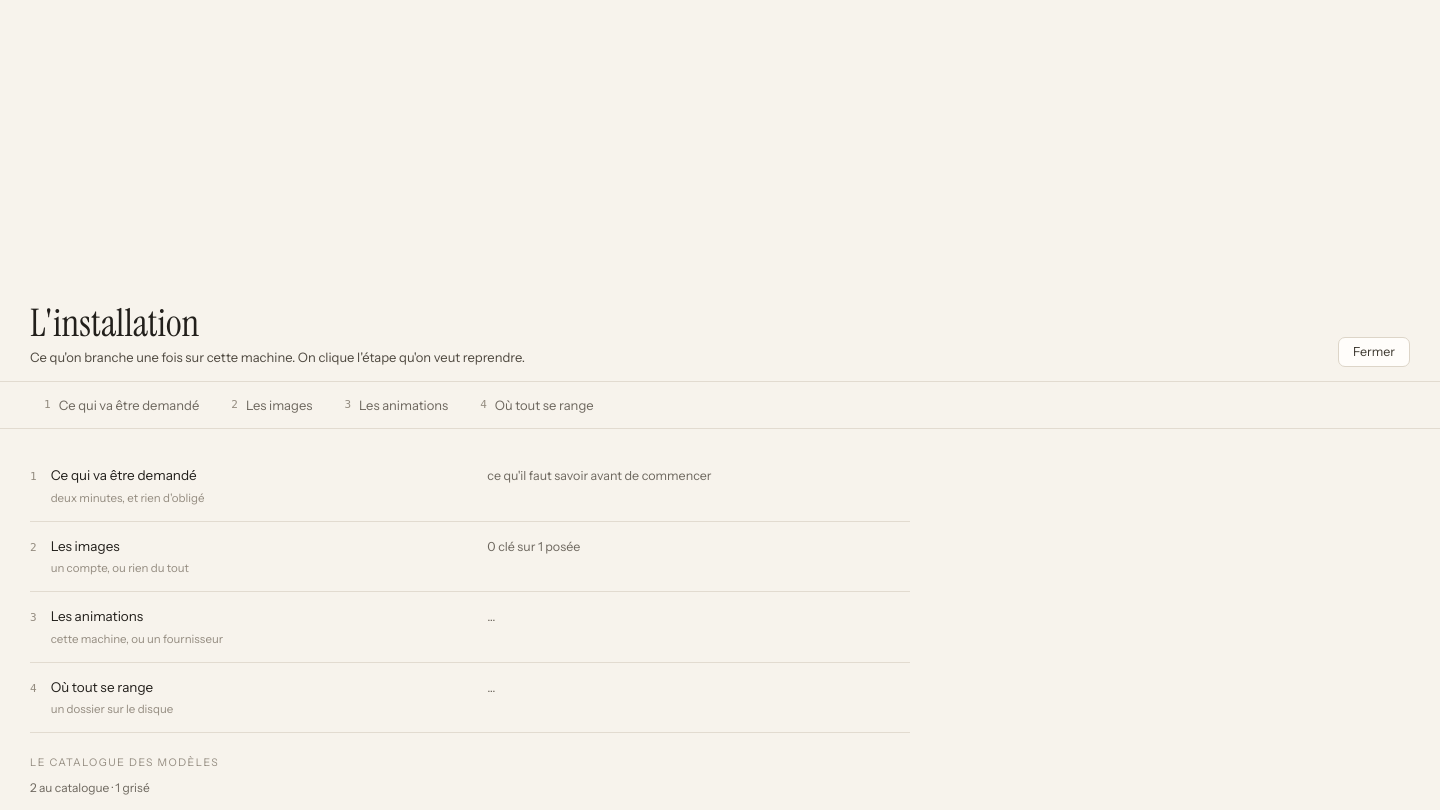
Test: l'adresse de ComfyUI › un moteur éteint le dit, et ne propose rien à descendre
The width and height of the screenshot is (1440, 810).
(page scrolled)
Click the button "3 Les animations".
click(396, 405)  # box [330,390,462,420]
(page scrolled)
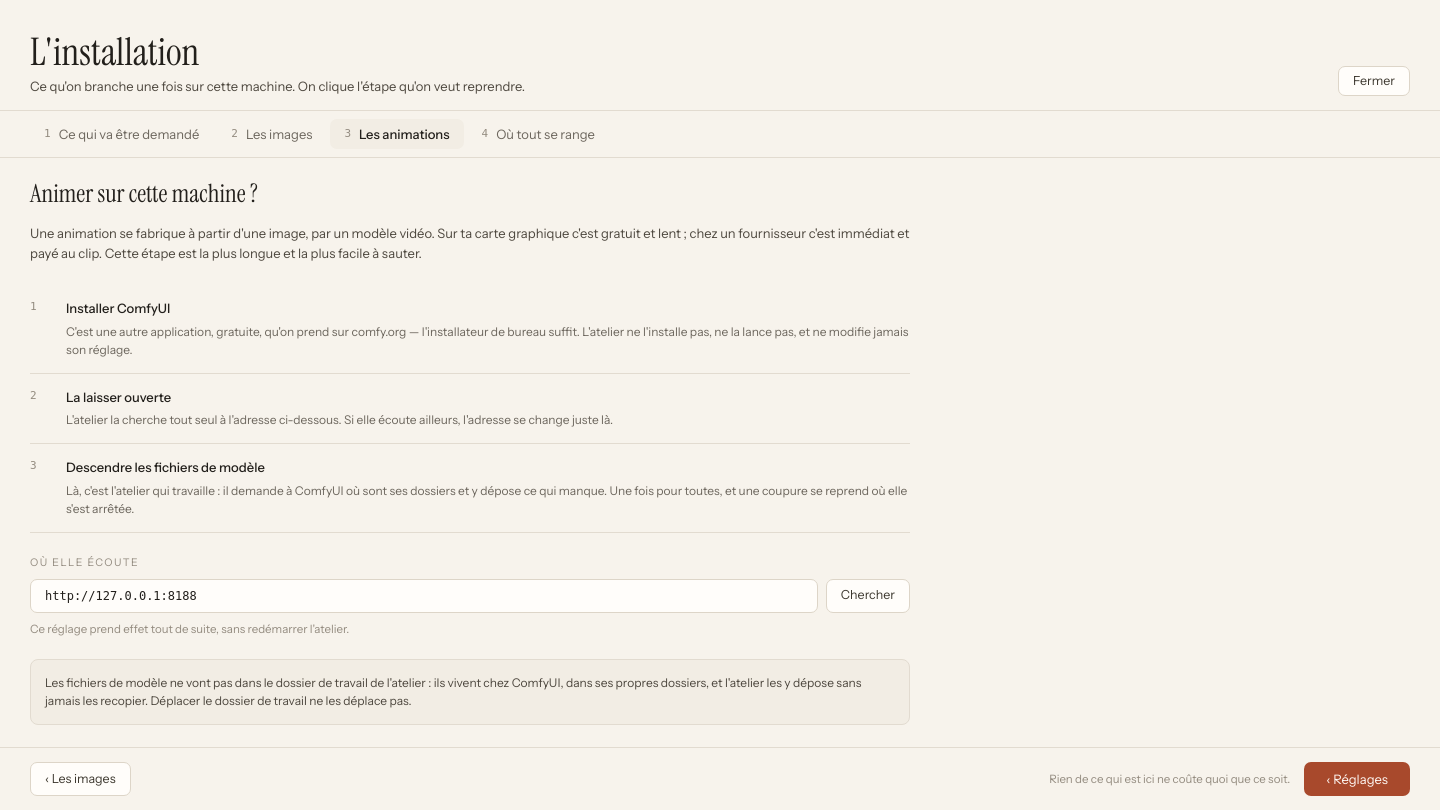
Click the button "Chercher".
click(868, 596)  # box [826,579,910,613]
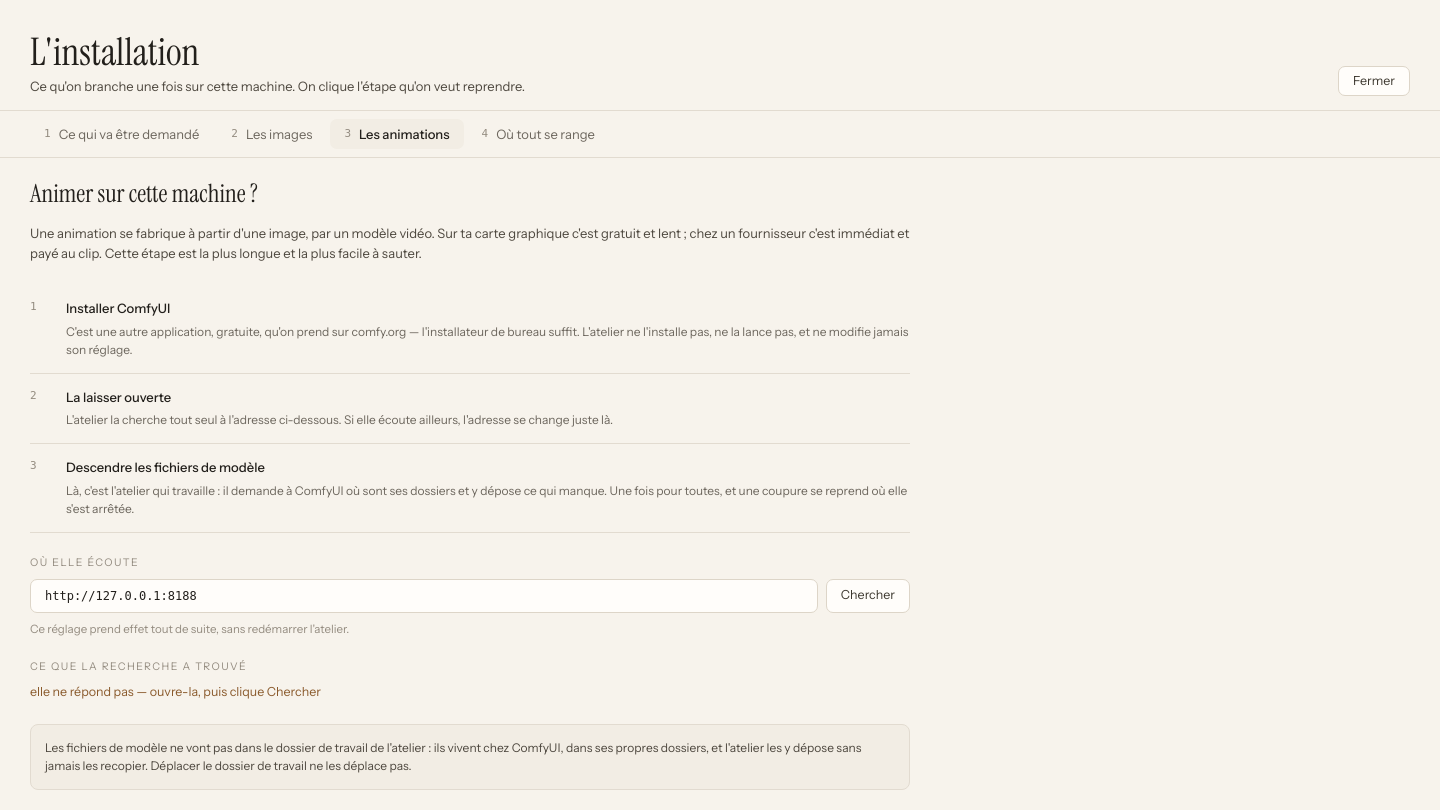
Result: the text "elle ne répond pas — ouvre-la, puis clique Chercher" is shown at [30,684,321,699]
